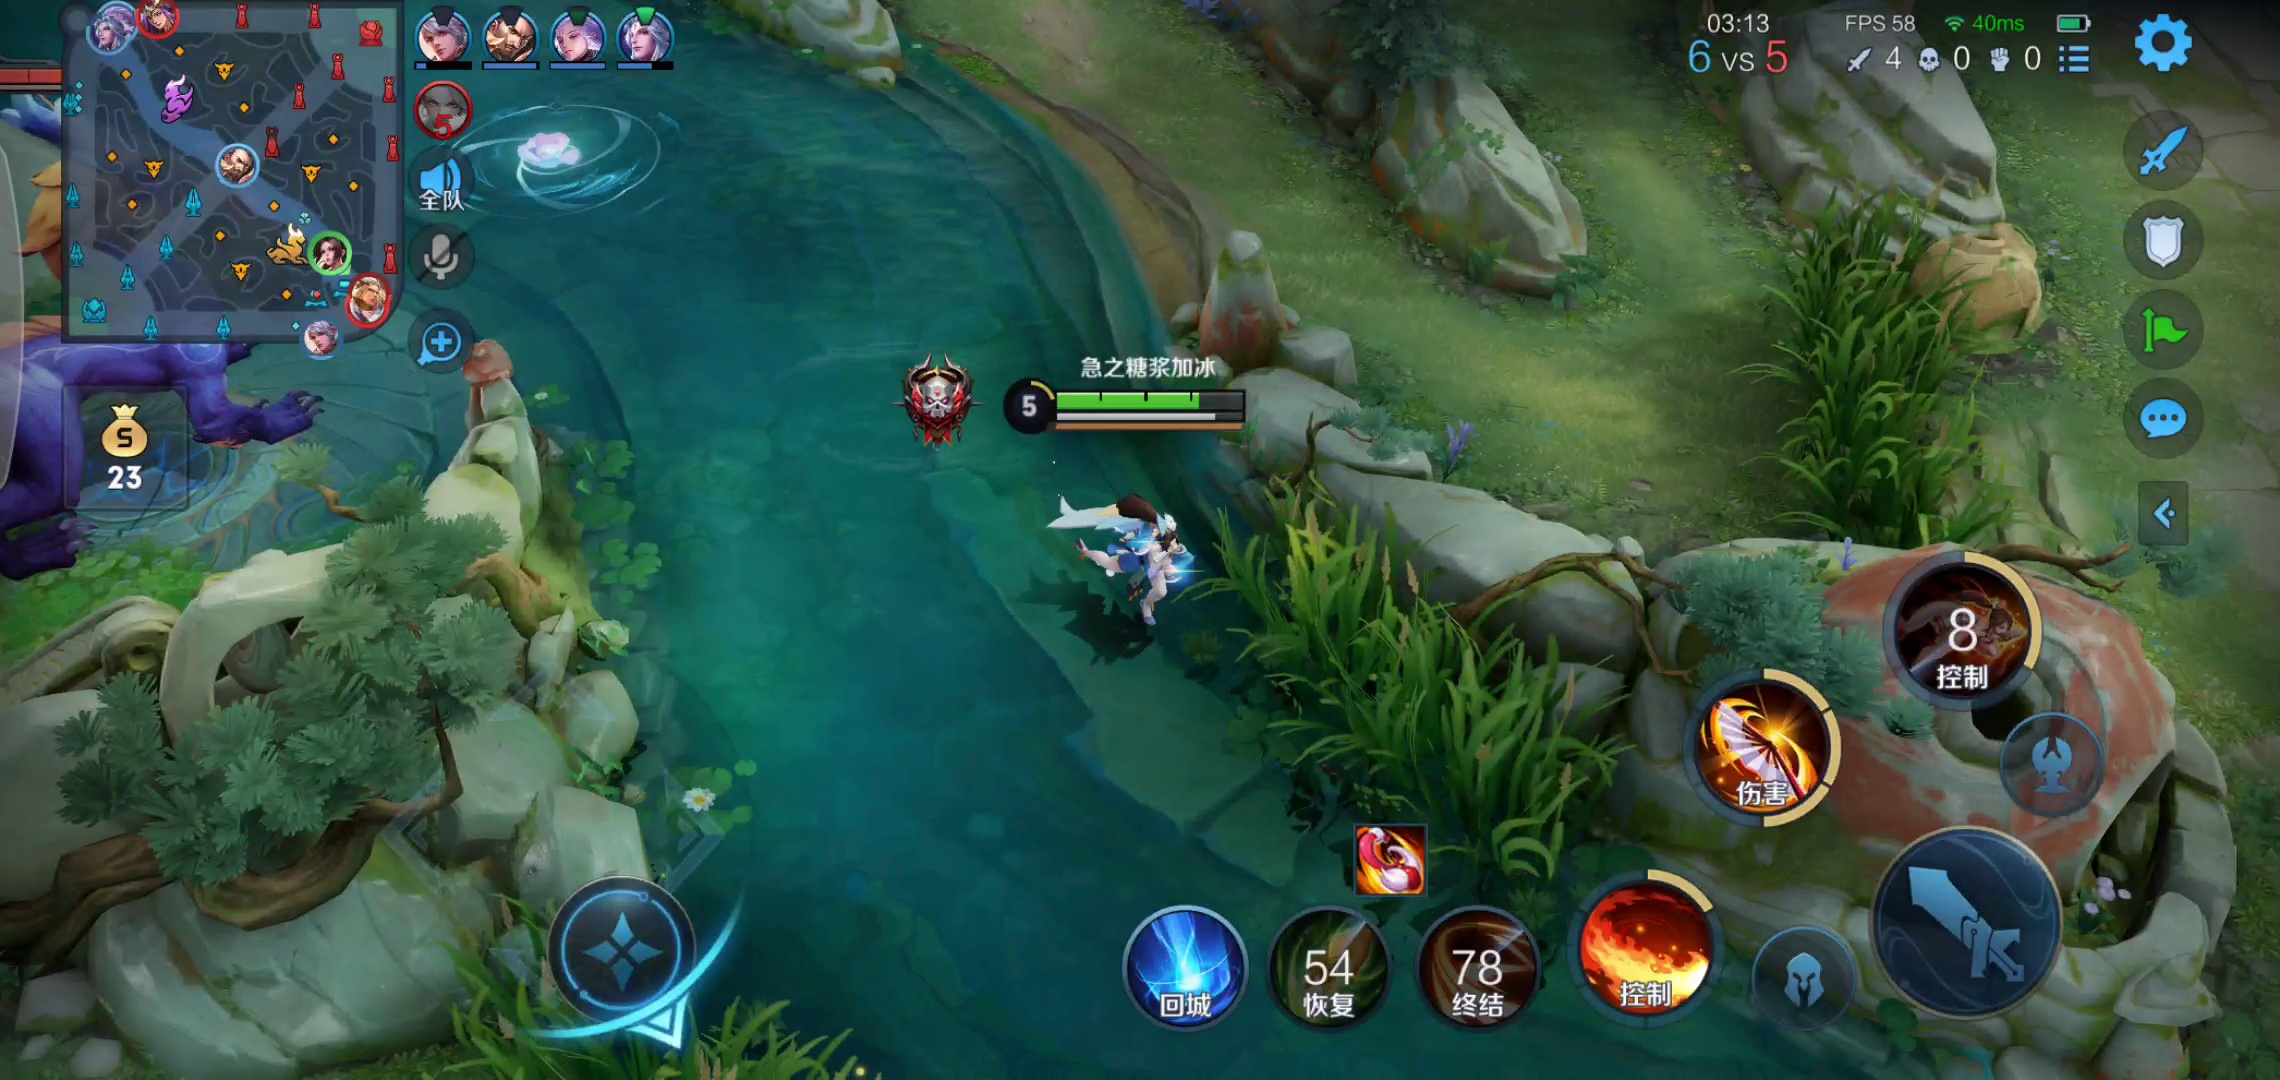dragon: (1, 105, 345, 548)
grass: (1217, 483, 1599, 895), (1735, 203, 2001, 541), (445, 906, 858, 1079)
hero: (1040, 470, 1207, 610)
